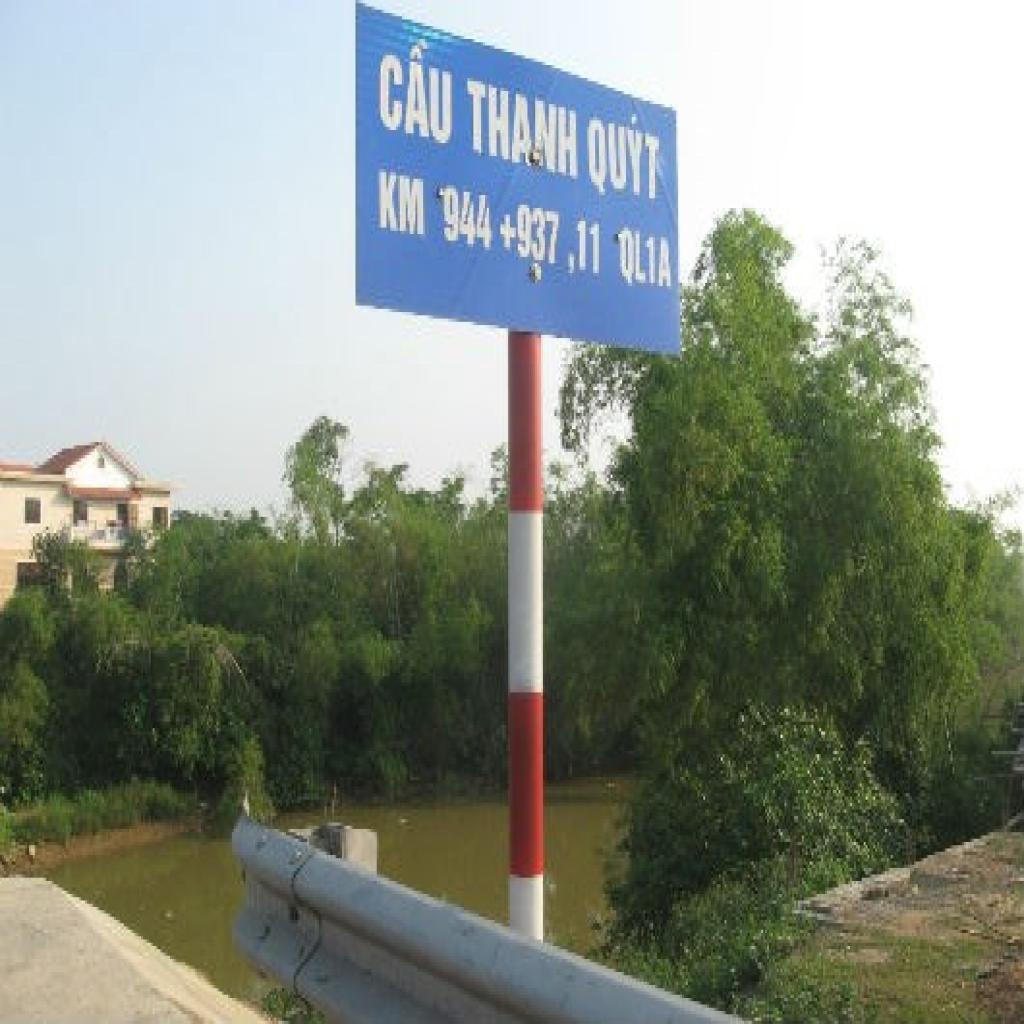text: (464, 75, 584, 185), (375, 26, 456, 153), (585, 101, 663, 211), (498, 195, 562, 280), (375, 166, 431, 247), (438, 185, 494, 257), (564, 215, 605, 286)
